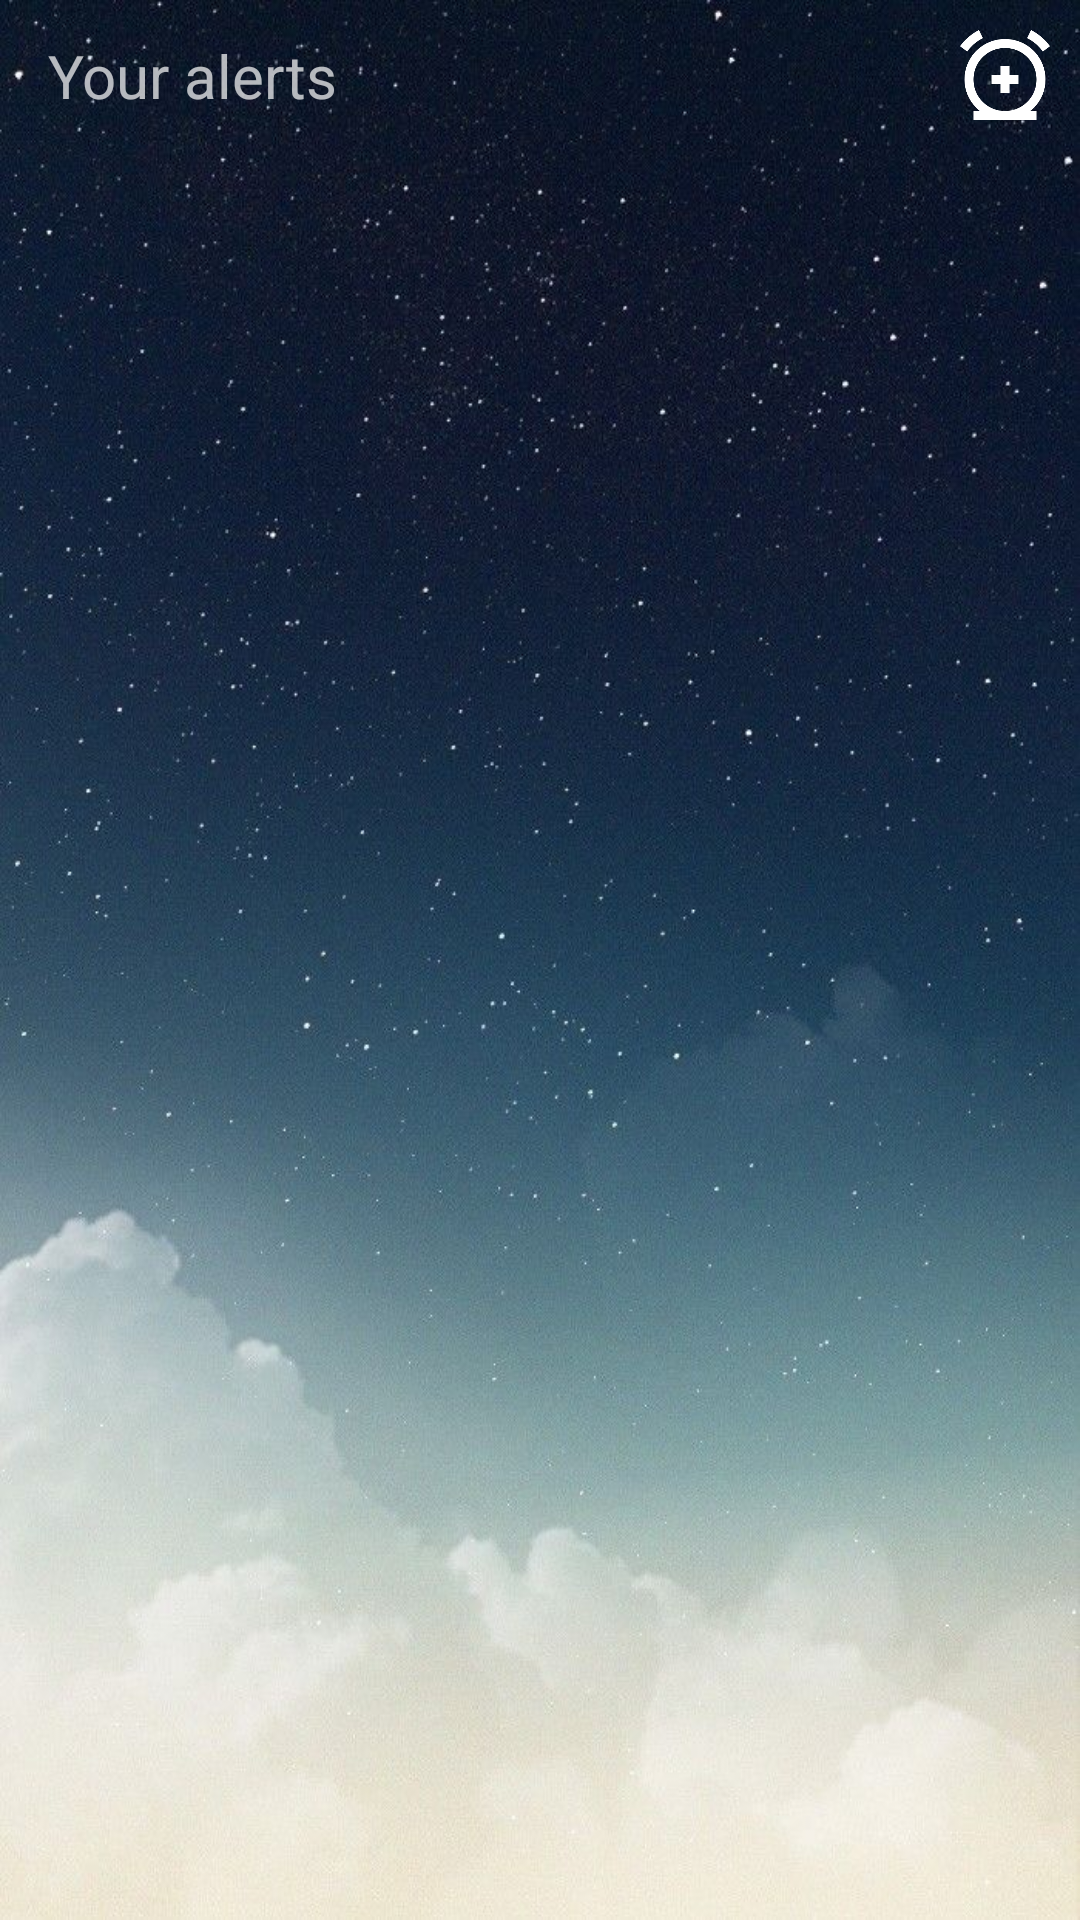

Where icons sit on this 1080px x 1920px app screen, as rect(x1, y1, x2, y2):
add alarm: rect(960, 30, 1050, 120)
